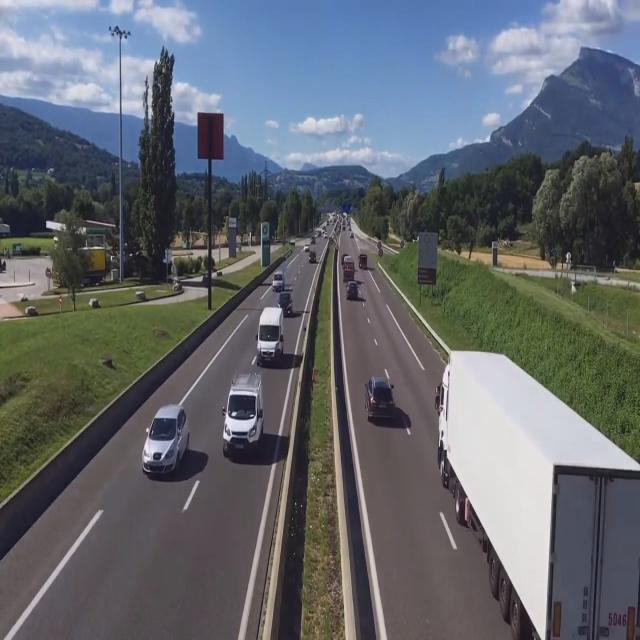bus: (258, 306, 286, 369)
car: (220, 370, 264, 462), (140, 407, 188, 482), (364, 369, 396, 429), (346, 279, 359, 301)
truck: (436, 348, 640, 640)
